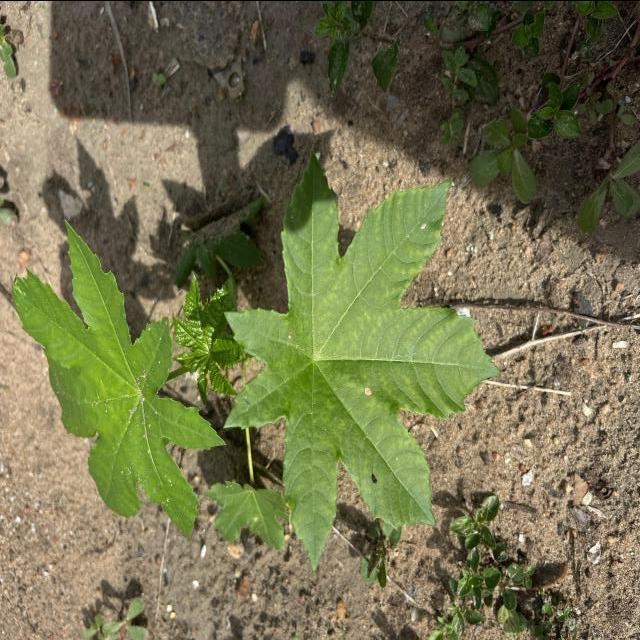Ricinus communis linn: (219, 147, 506, 578), (8, 216, 231, 544)
